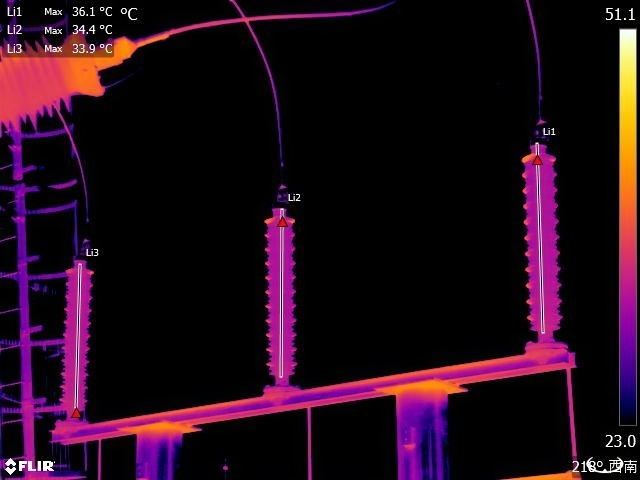lightning arrester: (516, 137, 573, 341), (259, 193, 307, 383), (56, 245, 99, 424)
tube: (1, 19, 150, 135)
